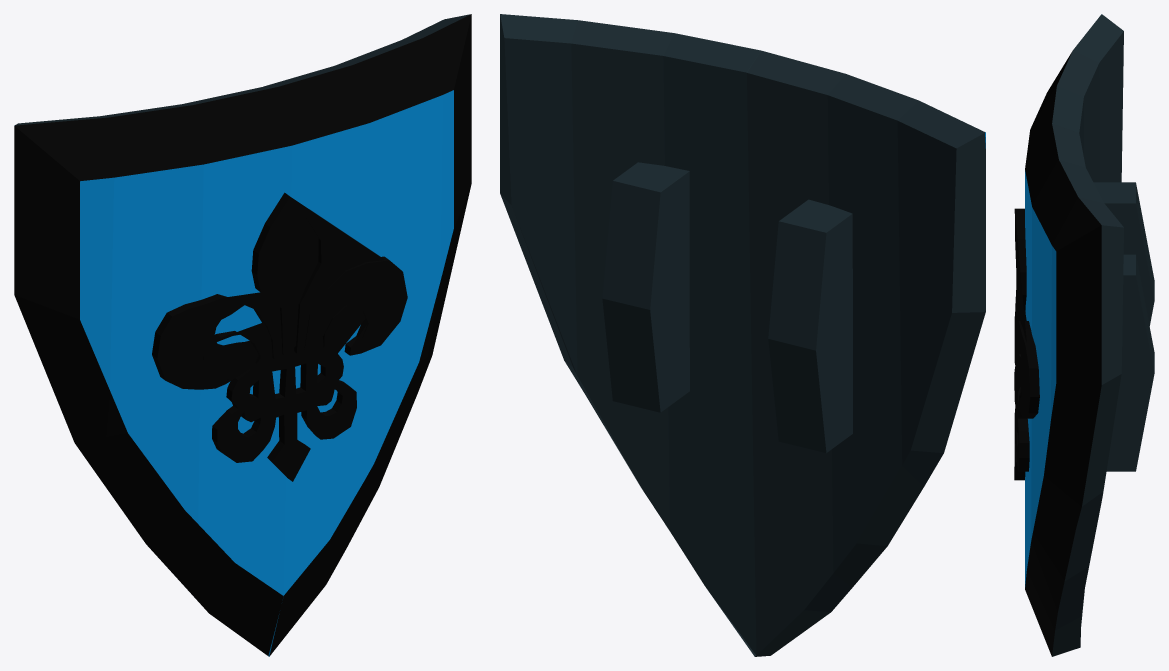
File: Shield 04.fbx
3 views of the same model, side by side, from view 1: azimuth 30°, elevation 25°; view 2: azimuth 150°, elevation 25°; view 3: azimuth 270°, elevation 25° (orthographic). The views are drawn at different scales.
Visible parts, largest first — view 1: Shiled 04; view 2: Shiled 04; view 3: Shiled 04.
Boxes of the visible parts, box(x1,y1,x2,y2) form: Shiled 04: box(14, 14, 471, 656); Shiled 04: box(500, 14, 985, 656); Shiled 04: box(1014, 14, 1154, 656).
Size of the model in its own units: 82.17 by 97.46 by 23.04.
